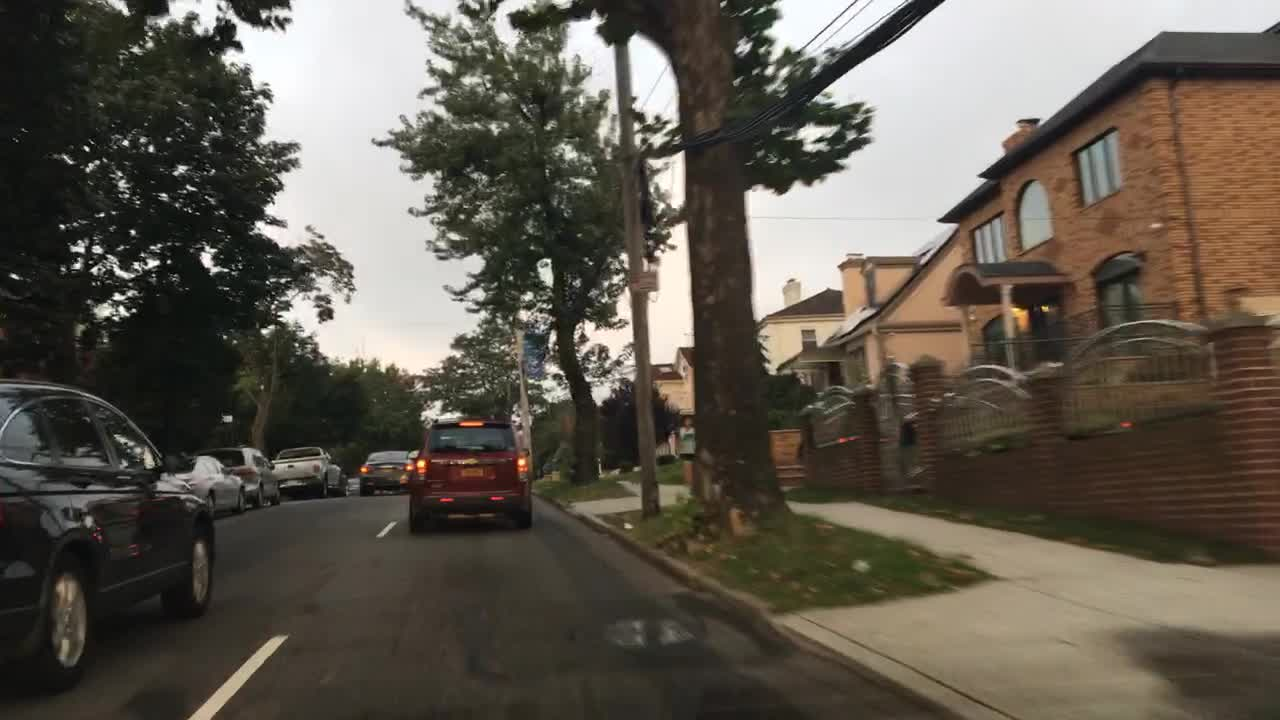car: (0, 376, 218, 695), (409, 413, 533, 534), (193, 443, 283, 510), (166, 453, 248, 520), (357, 448, 417, 495), (344, 476, 360, 494), (408, 448, 420, 462)
person: (676, 410, 701, 494)
traffic sign: (630, 269, 658, 291)
truck: (268, 443, 347, 499)
